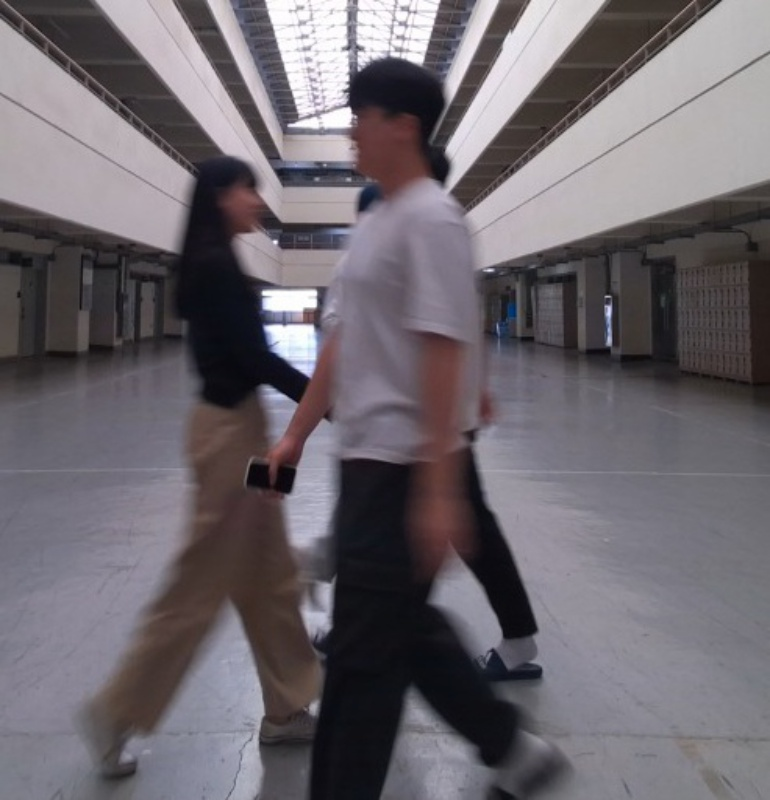person: (248, 60, 568, 798)
